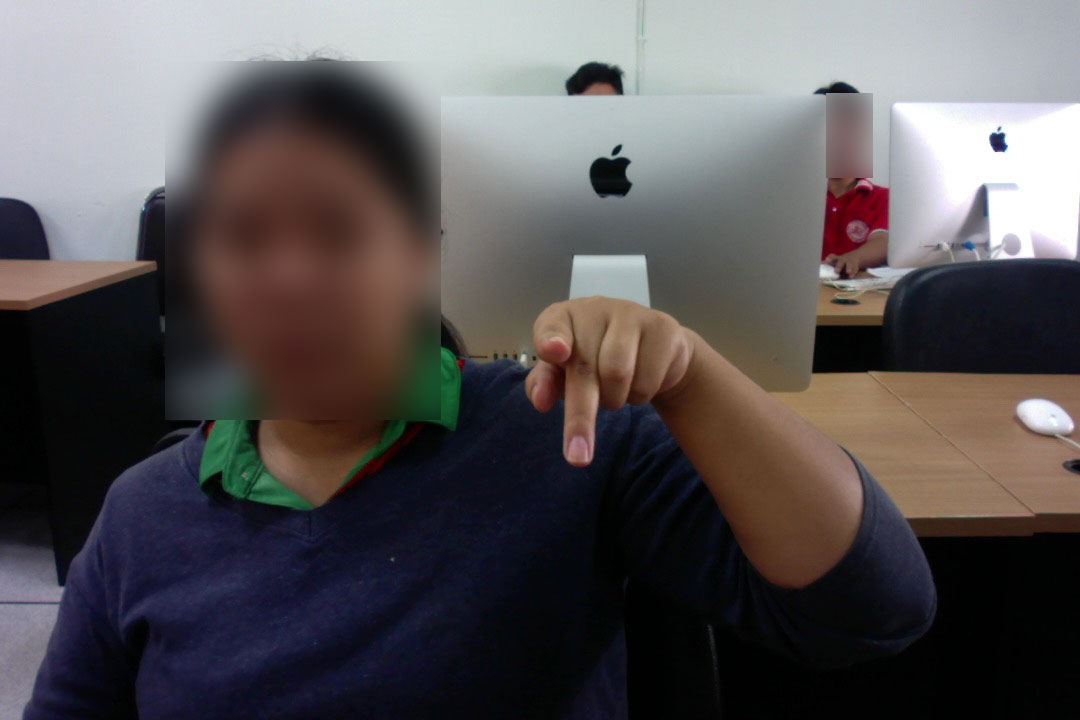por: (524, 281, 698, 474)
